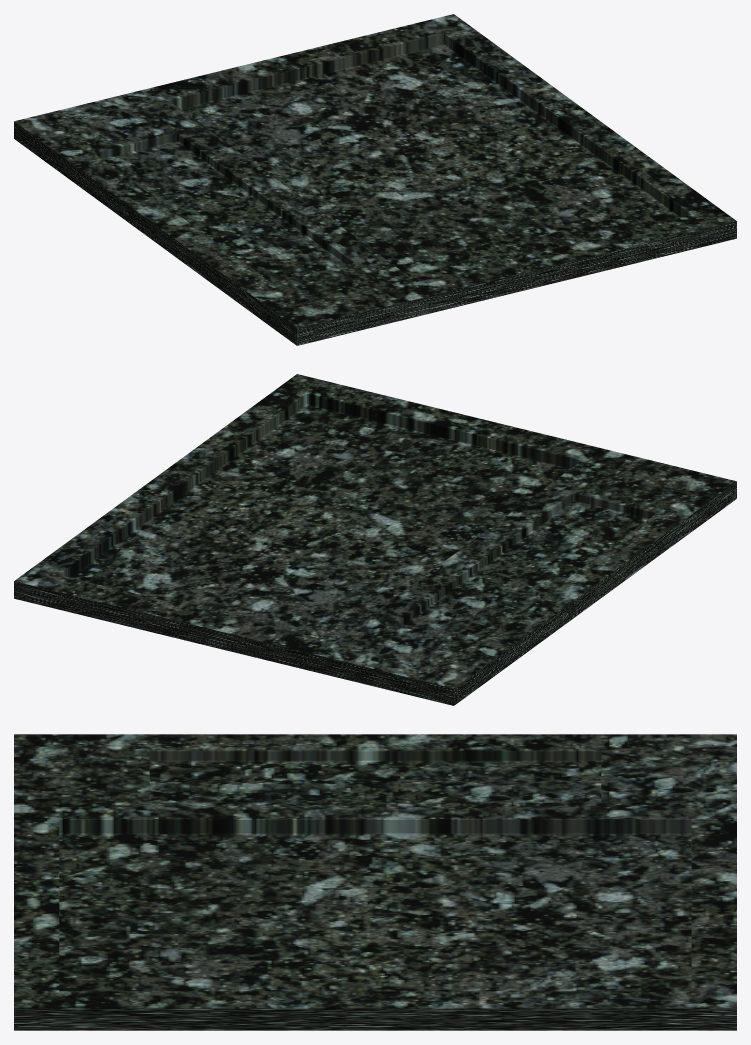
Rendered from DrawingBoard.fbx.
3 renders of one model, top to bottom at view 1: azimuth 30°, elevation 25°; view 2: azimuth 150°, elevation 25°; view 3: azimuth 270°, elevation 25°, orthographic. The views are drawn at different scales.
Visible parts, largest first — view 1: Cube; view 2: Cube; view 3: Cube.
Part boxes in pixels (x1,y1,x2,y2): Cube: (14,14,736,345); Cube: (14,374,736,705); Cube: (14,734,736,1030).
Bounding box in the file's own units: 246 × 9.32 × 274.
1 material, 1 textured.
